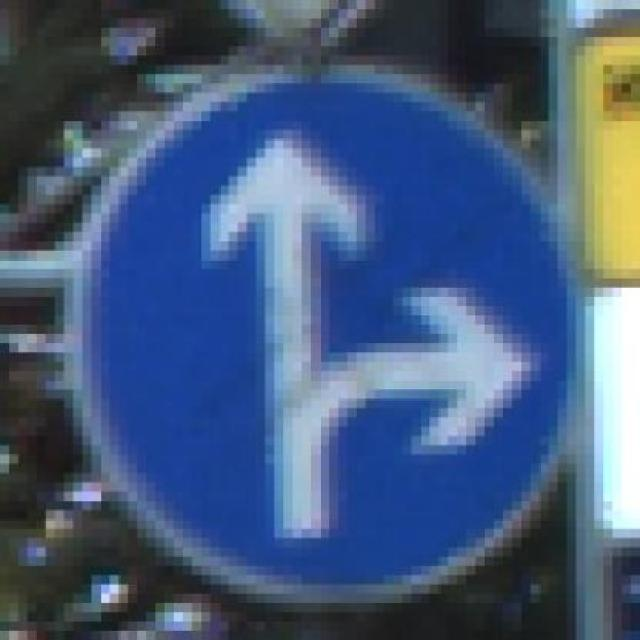Go Straight or Turn Right: (46, 64, 603, 622)
